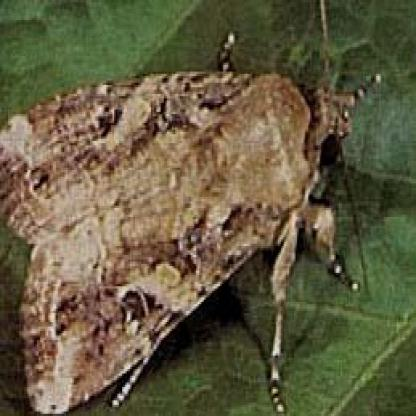armyworm: (0, 30, 384, 416)
